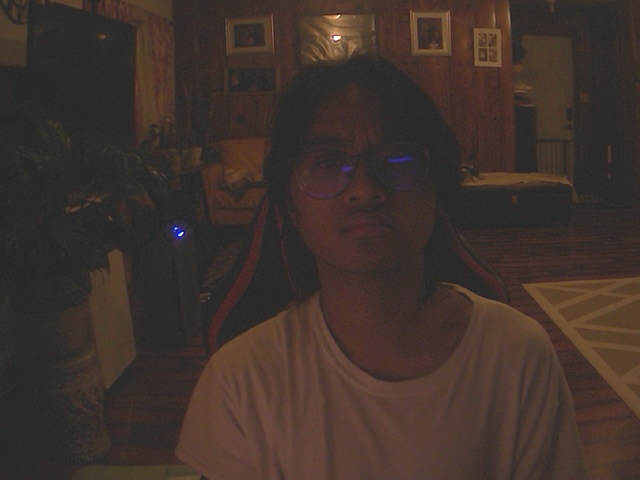anger: (262, 54, 464, 276)
